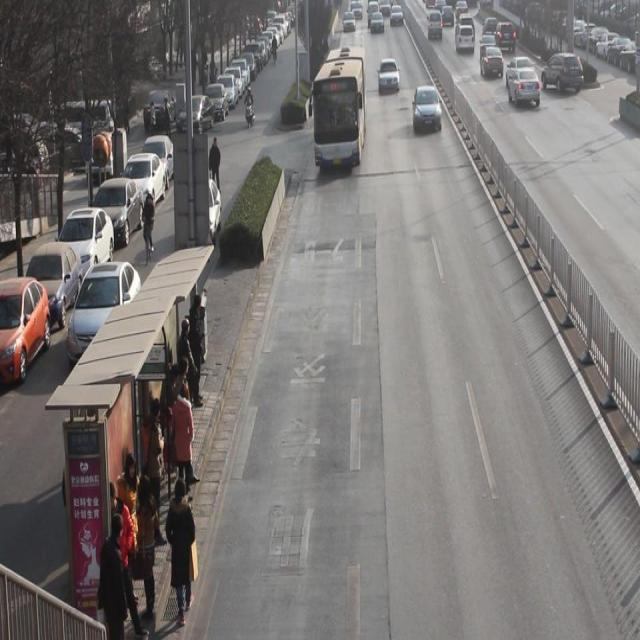car: (65, 260, 144, 362), (177, 176, 221, 244), (541, 52, 584, 97), (413, 86, 442, 132), (508, 70, 542, 108), (506, 56, 534, 87), (480, 47, 504, 79), (378, 59, 399, 94), (456, 24, 475, 51), (498, 21, 516, 49), (390, 1, 404, 25), (370, 11, 384, 34), (443, 1, 455, 25), (482, 18, 498, 36), (343, 11, 356, 33), (481, 36, 496, 54), (456, 1, 468, 20), (458, 12, 473, 26)
truck: (428, 11, 442, 39)
van: (312, 49, 365, 167)
